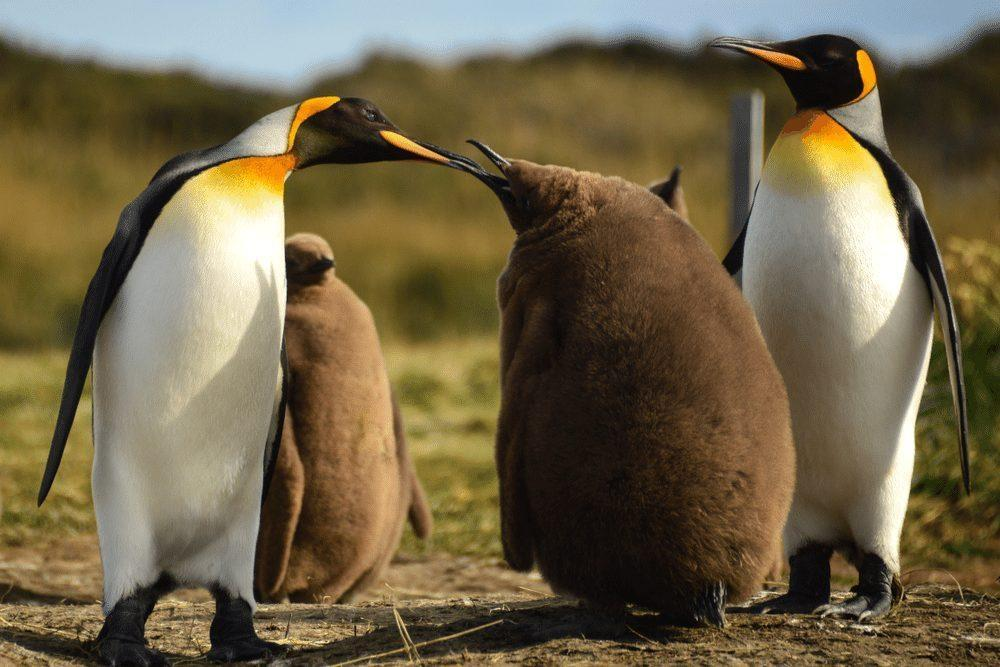Penguin: (39, 96, 451, 665), (450, 139, 795, 623), (713, 35, 968, 619), (254, 234, 431, 602)
